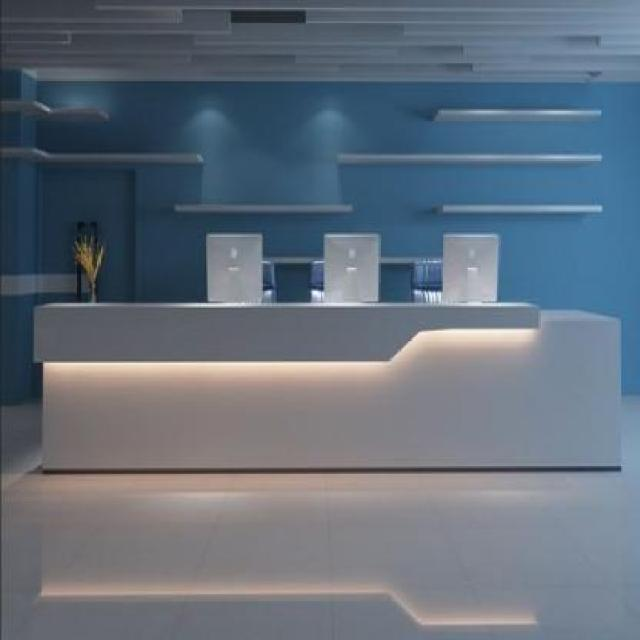frontdesk: (30, 283, 628, 485)
